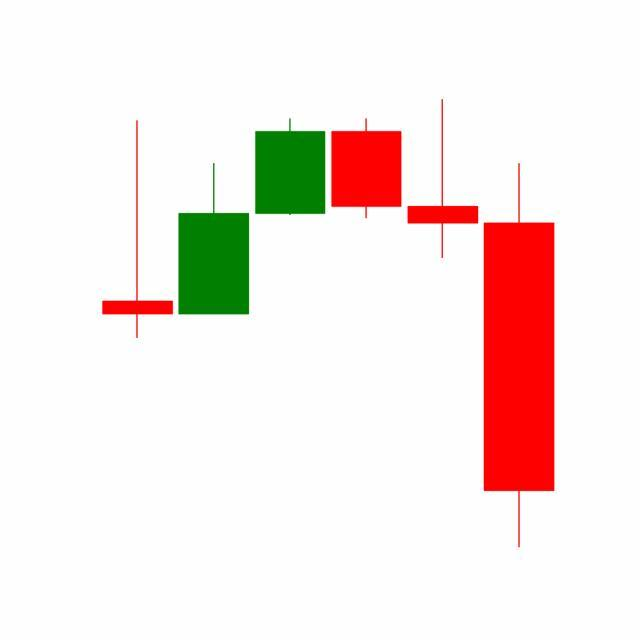Spinning Top: (404, 98, 482, 261)
